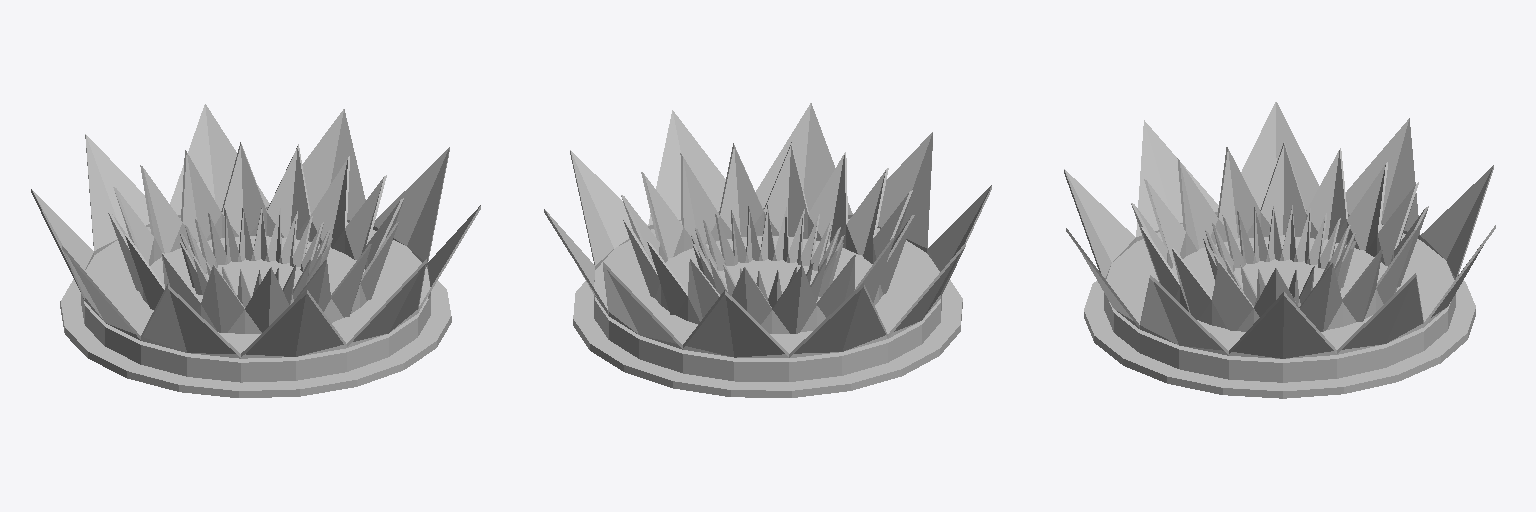
The model's file is portal_abrir_000006.obj.
3 views of the same model, side by side, from view 1: azimuth 30°, elevation 25°; view 2: azimuth 150°, elevation 25°; view 3: azimuth 270°, elevation 25° (orthographic).
Visible parts, largest first — view 1: pCylinder1, Cylinder, Cylinder.001; view 2: pCylinder1, Cylinder, Cylinder.001; view 3: pCylinder1, Cylinder, Cylinder.001.
Part boxes in pixels (left/top/right/bottom): pCylinder1: left=31, top=104, right=480, bottom=397; Cylinder: left=108, top=142, right=403, bottom=333; Cylinder.001: left=180, top=208, right=332, bottom=307; pCylinder1: left=544, top=103, right=991, bottom=397; Cylinder: left=621, top=142, right=914, bottom=333; Cylinder.001: left=691, top=205, right=844, bottom=307; pCylinder1: left=1064, top=102, right=1495, bottom=398; Cylinder: left=1131, top=142, right=1428, bottom=331; Cylinder.001: left=1203, top=205, right=1356, bottom=306.
Bounding box in the file's own units: 2.11 × 0.6163 × 2.02.